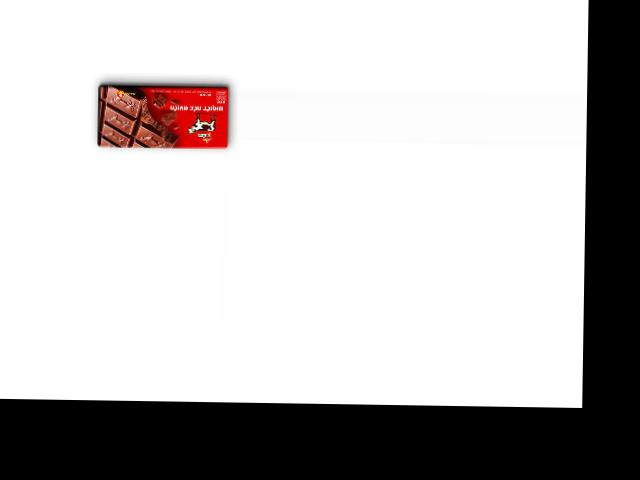chocolate: (94, 79, 232, 151)
